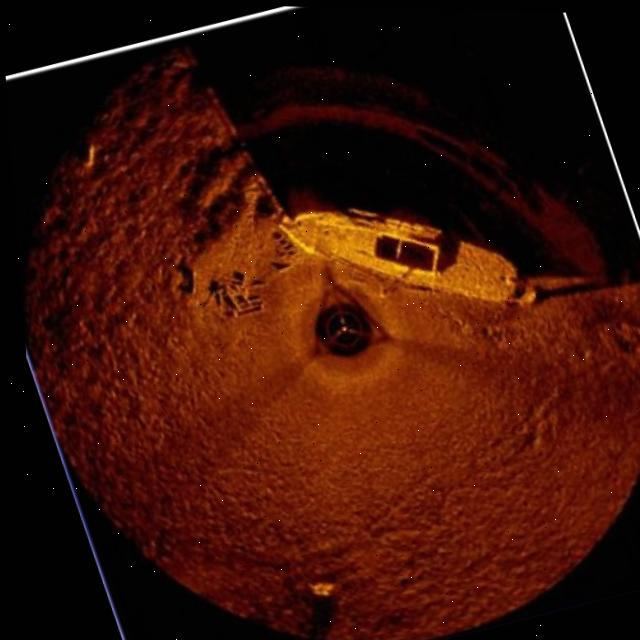shipwreck: (262, 156, 531, 359)
